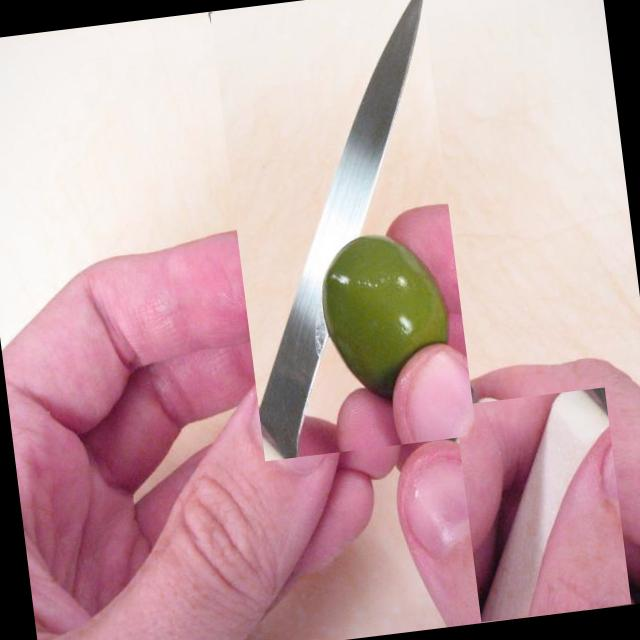Knife: (261, 0, 422, 458), (482, 390, 609, 622)
